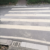zebra: (1, 8, 50, 31)
